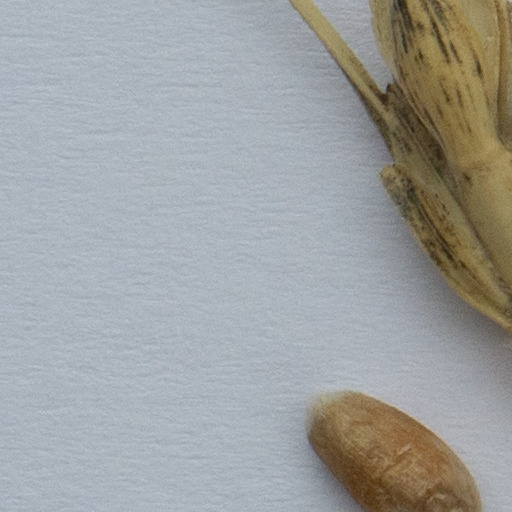Peel-poly: (288, 0, 511, 326)
